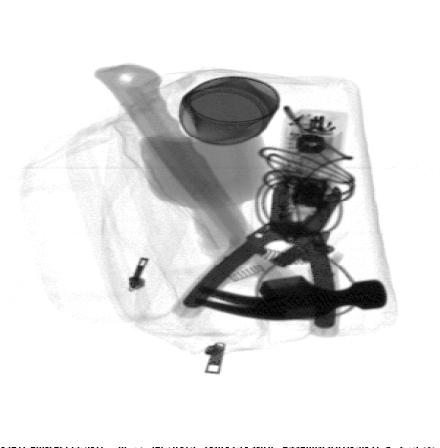Hammer: (92, 63, 386, 322)
Pliers: (168, 180, 344, 339)
